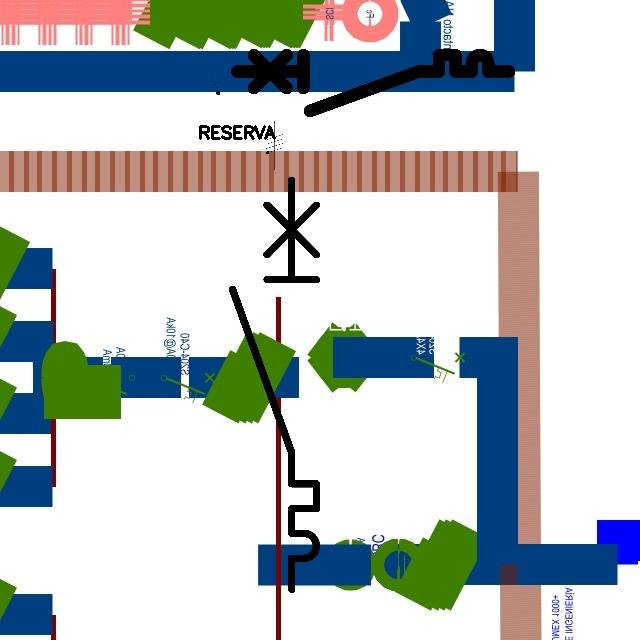interruptor_termomagnetico: (222, 169, 327, 600), (230, 48, 516, 118)
